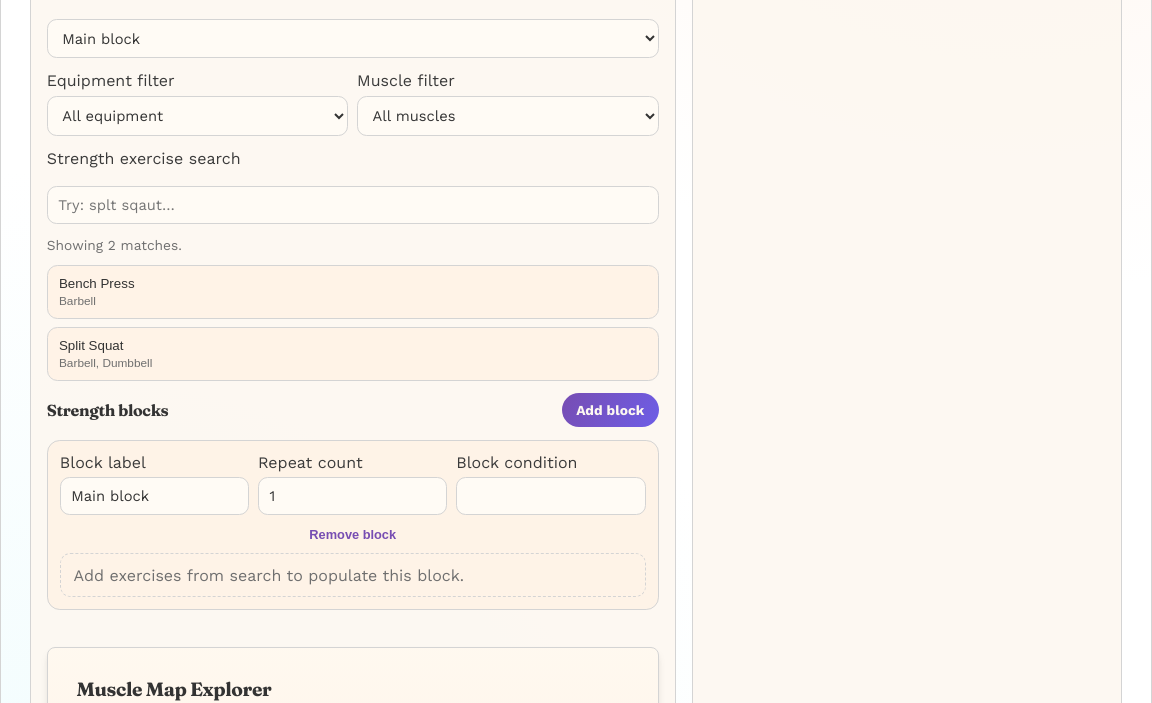
Scenario: RoutineCreationFlow › supports keyboard shortcuts for undo and redo when focus is outside editors
(page scrolled)
expect the text "Showing 2 matches." is shown: met, box left=47, top=237, right=182, bottom=253
Click the button "Split Squat Barbell, Dumbbell".
click(91, 345)  # box left=47, top=327, right=659, bottom=380
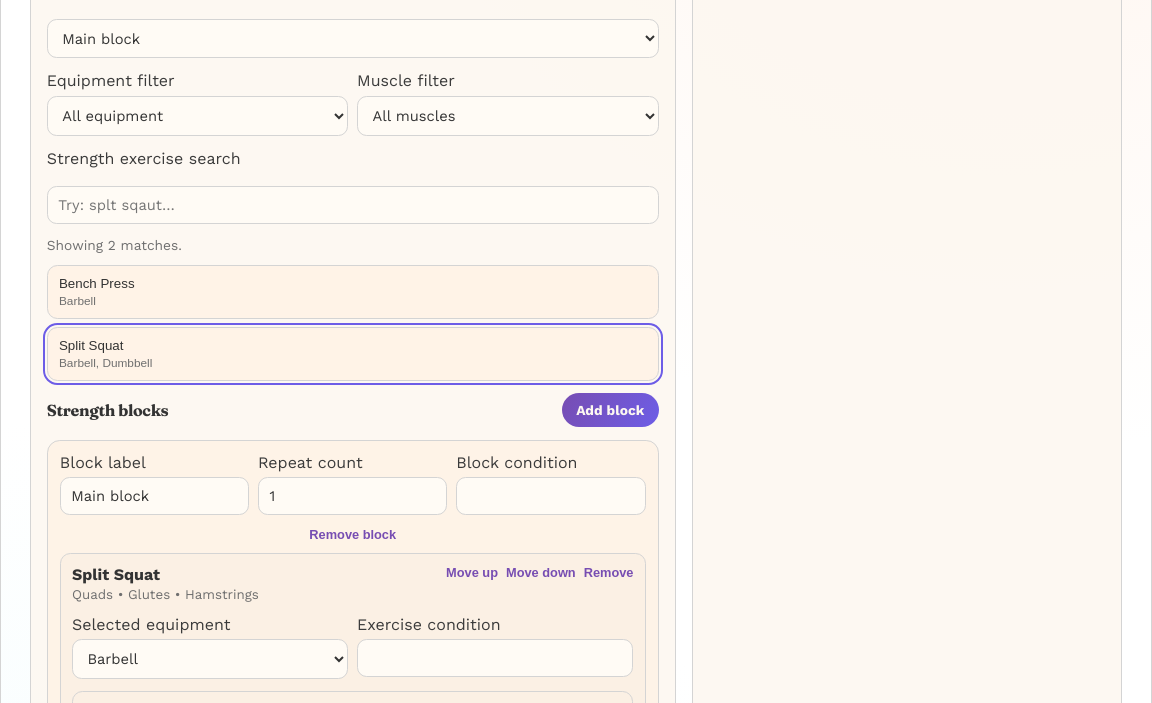
expect the text "Split Squat" below "Block label" is shown: met, box left=72, top=565, right=160, bottom=584
Press z
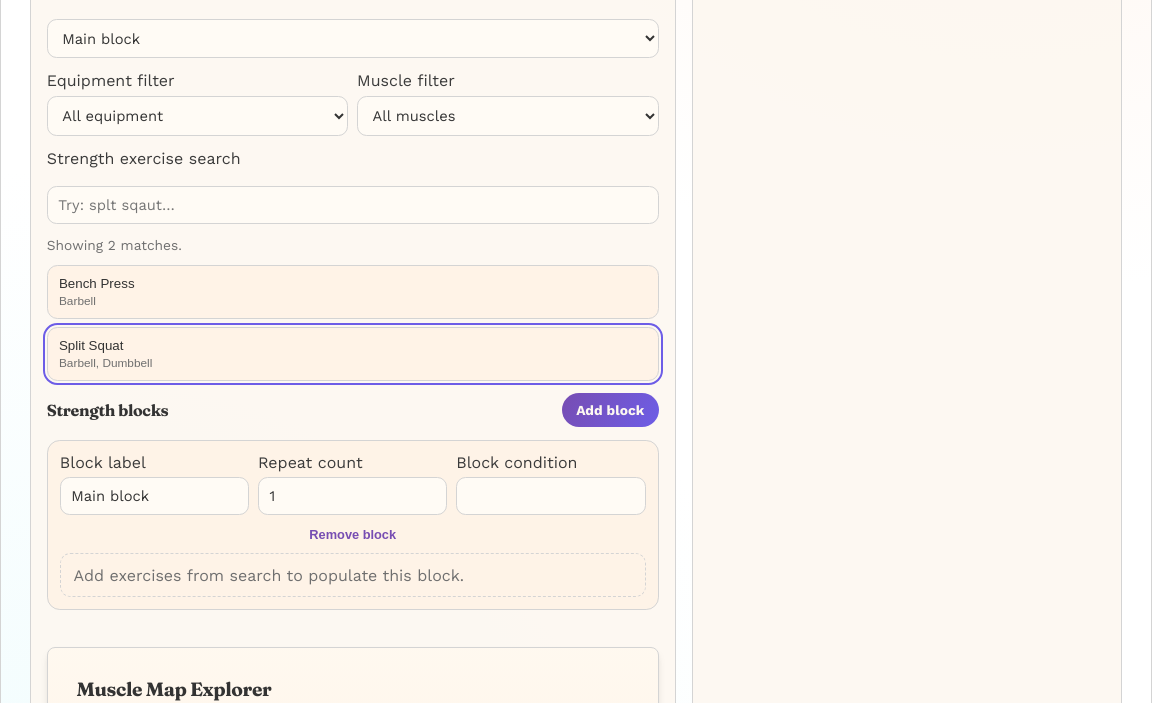
Press y
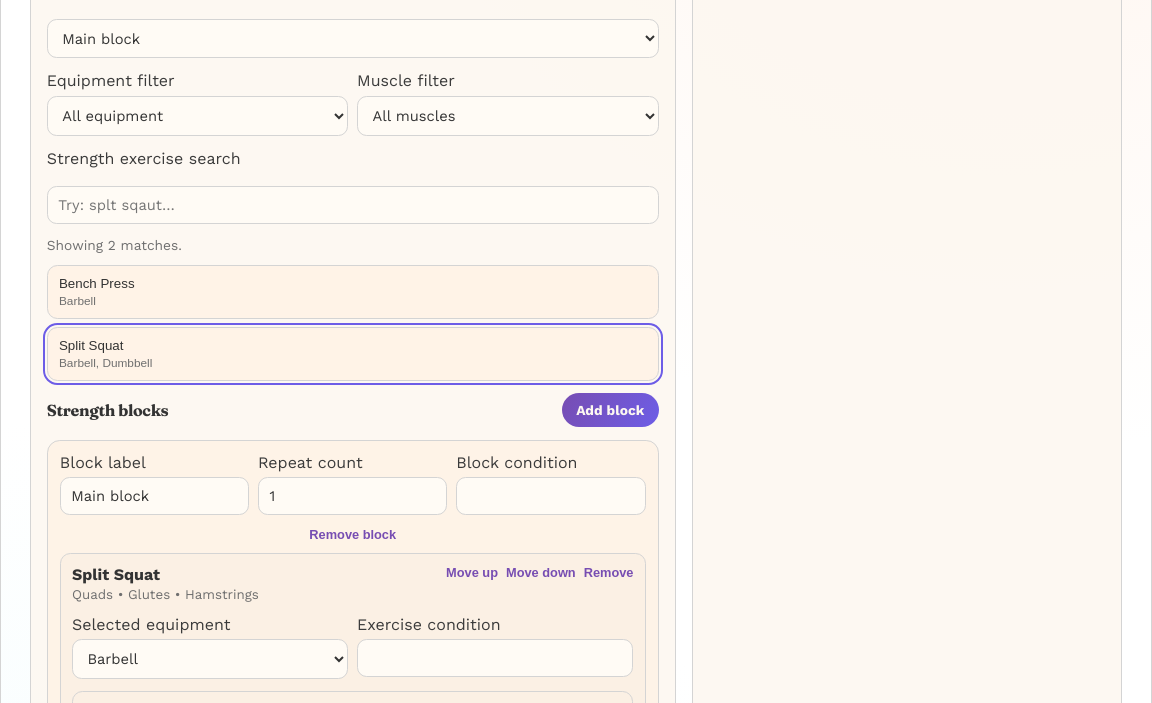
expect the text "Split Squat" below "Block label" is shown: met, box left=72, top=565, right=160, bottom=584
